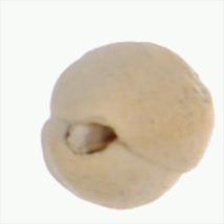L3: (61, 116, 125, 155)
L4: (41, 42, 215, 210)
